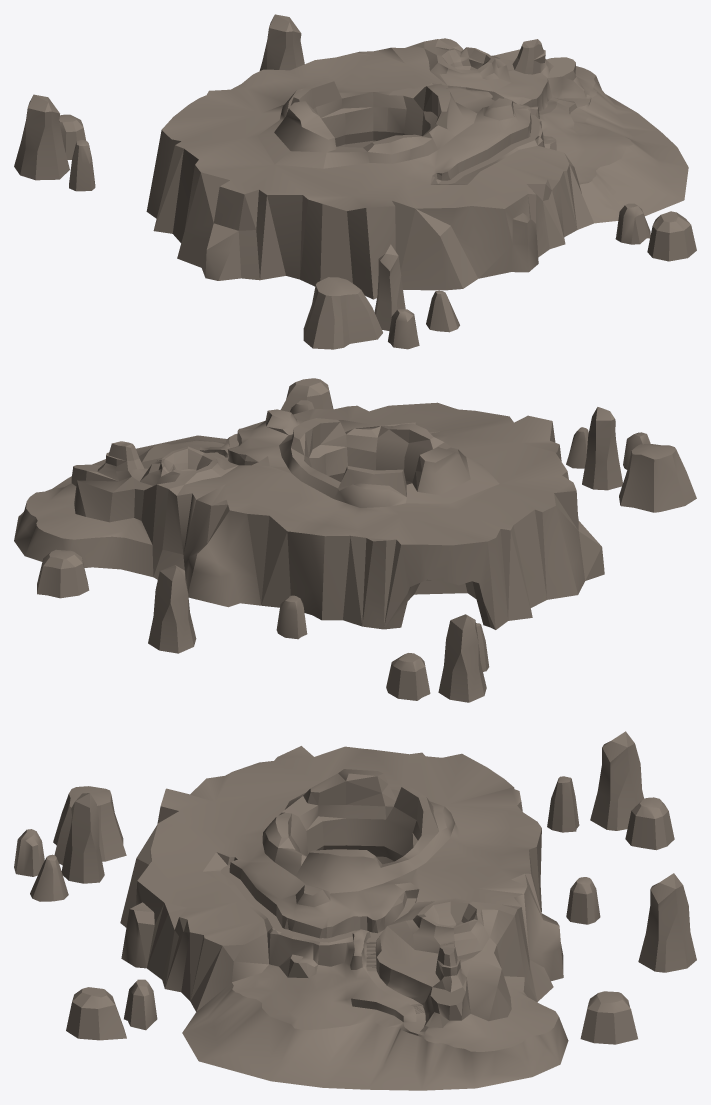
The model's file is Inner.fbx.
The picture shows the model from 3 angles, top to bottom: view 1: azimuth 30°, elevation 25°; view 2: azimuth 150°, elevation 25°; view 3: azimuth 270°, elevation 25°; orthographic projection. The views are drawn at different scales.
Parts seen in each view (by area): view 1: Plane001; view 2: Plane001; view 3: Plane001.
Part boxes in pixels (x1=…): Plane001: x1=14, y1=14, x2=696, y2=349; Plane001: x1=14, y1=378, x2=696, y2=702; Plane001: x1=14, y1=731, x2=696, y2=1090.
Bounding box in the file's own units: 780 × 160 × 792.
